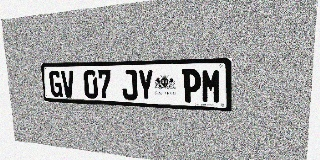0: (83, 70, 98, 99)
7: (97, 70, 112, 99)
G: (49, 71, 63, 97)
J: (121, 70, 138, 100)
M: (201, 69, 221, 104)
P: (182, 69, 201, 103)
V: (61, 70, 75, 98)
Y: (137, 69, 154, 101)
